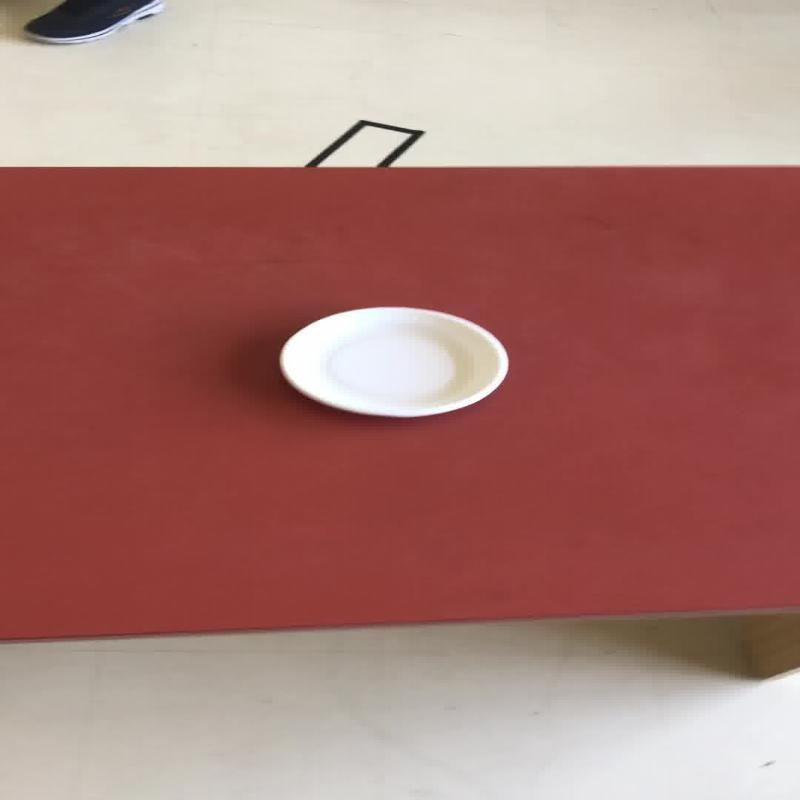plate: (277, 304, 508, 418)
